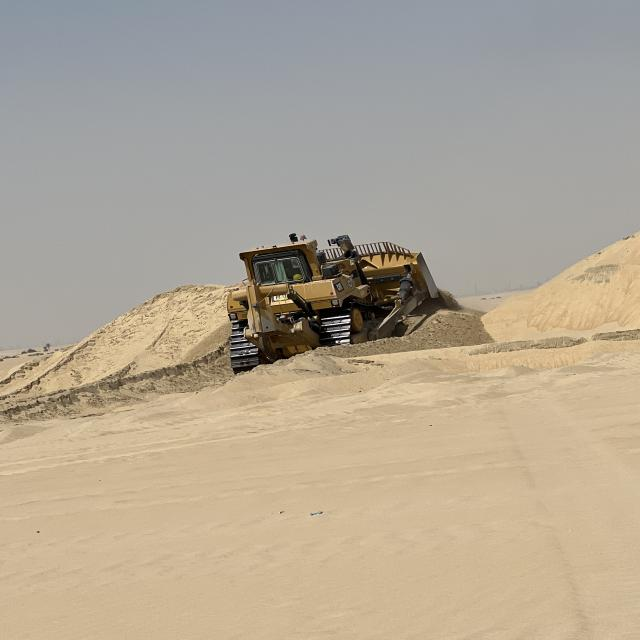buldozerpayloadergrader: (223, 227, 438, 378)
